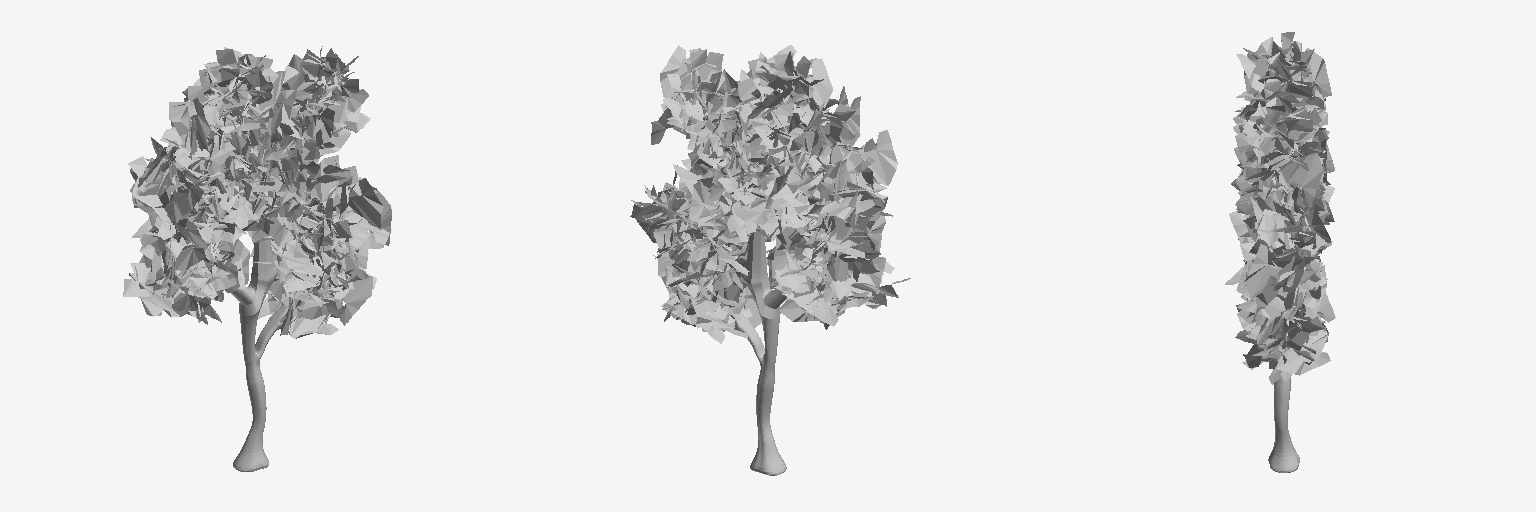
The model's file is tree.obj.
The picture shows the model from 3 angles: view 1: azimuth 30°, elevation 25°; view 2: azimuth 150°, elevation 25°; view 3: azimuth 270°, elevation 25°; orthographic projection.
Parts seen in each view (by area): view 1: Cube_Cube.001, Tree_Branch.126, Tree_Branch.027, Tree_Branch.189, Tree_Branch.022, Tree_Branch.260, Tree_Branch.021, Tree_Branch.162, Tree_Branch.093, Tree_Branch.278, Tree_Branch.039, Tree_Branch.089 (+6 smaller); view 2: Cube_Cube.001, Tree_Branch.131, Tree_Branch.110, Tree_Branch.123, Tree_Branch.038, Tree_Branch.156, Tree_Branch.124, Tree_Branch.153, Tree_Branch.048, Tree_Branch.255, Tree_Branch.198, Tree_Branch.285 (+6 smaller); view 3: Cube_Cube.001, Tree_Branch.207, Tree_Branch.189, Tree_Branch.250, Tree_Branch.200, Tree_Branch.284, Tree_Branch.183, Tree_Branch.198, Tree_Branch.188, Tree_Branch.021, Tree_Branch.240, Tree_Branch.020 (+3 smaller).
Boxes of the visible parts, <box> form: Cube_Cube.001: <box>157,185,352,471</box>; Tree_Branch.126: <box>169,86,224,170</box>; Tree_Branch.027: <box>128,156,178,239</box>; Tree_Branch.189: <box>333,178,383,227</box>; Tree_Branch.022: <box>258,297,338,338</box>; Tree_Branch.260: <box>123,263,200,316</box>; Tree_Branch.021: <box>340,273,372,325</box>; Tree_Branch.162: <box>288,54,368,122</box>; Tree_Branch.093: <box>199,49,266,123</box>; Tree_Branch.278: <box>301,155,354,201</box>; Tree_Branch.039: <box>130,158,191,242</box>; Tree_Branch.089: <box>247,209,297,246</box>; Cube_Cube.001: <box>702,94,786,475</box>; Tree_Branch.131: <box>813,130,897,206</box>; Tree_Branch.110: <box>749,58,832,128</box>; Tree_Branch.123: <box>790,96,860,167</box>; Tree_Branch.038: <box>844,167,885,251</box>; Tree_Branch.156: <box>680,49,721,100</box>; Tree_Branch.124: <box>794,103,855,166</box>; Tree_Branch.153: <box>660,45,687,104</box>; Tree_Branch.048: <box>817,262,894,300</box>; Tree_Branch.255: <box>824,252,883,301</box>; Tree_Branch.198: <box>689,169,717,220</box>; Tree_Branch.285: <box>751,72,838,109</box>; Cube_Cube.001: <box>1268,231,1299,472</box>; Tree_Branch.207: <box>1263,146,1323,207</box>; Tree_Branch.189: <box>1245,244,1316,320</box>; Tree_Branch.250: <box>1249,312,1330,375</box>; Tree_Branch.200: <box>1250,197,1305,248</box>; Tree_Branch.284: <box>1244,48,1331,97</box>; Tree_Branch.183: <box>1237,262,1321,318</box>; Tree_Branch.198: <box>1243,197,1330,239</box>; Tree_Branch.188: <box>1256,250,1312,325</box>; Tree_Branch.021: <box>1243,316,1324,367</box>; Tree_Branch.240: <box>1258,60,1312,101</box>; Tree_Branch.020: <box>1269,316,1313,369</box>.
Size of the model in its own units: 3.54 by 5.44 by 1.3.